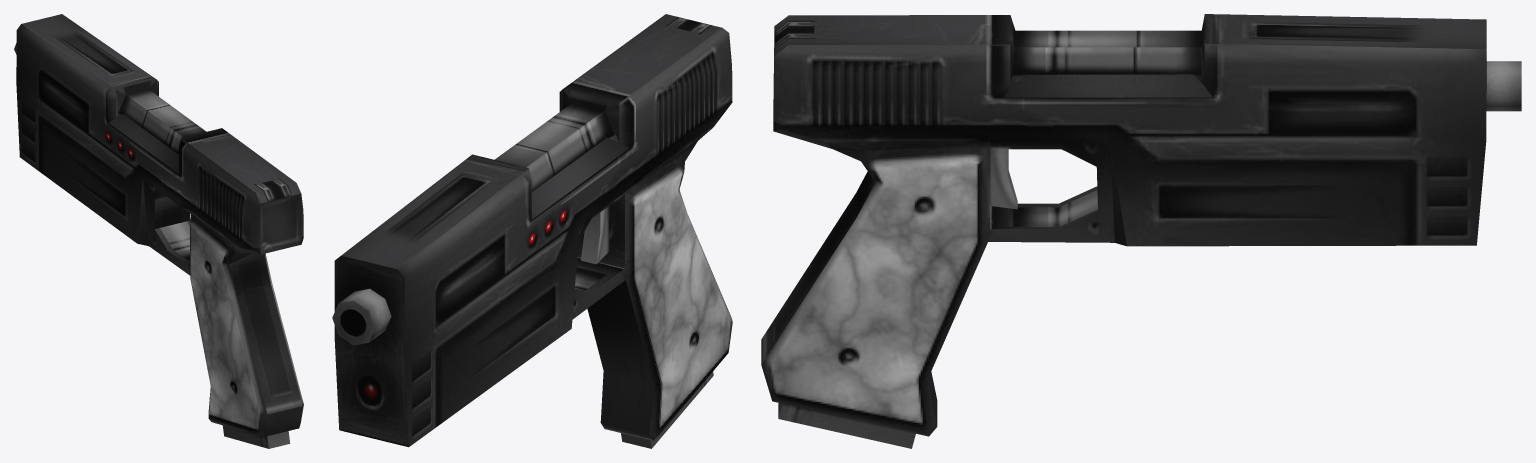
The model's file is pistol.FBX.
3 views of the same model, side by side, from view 1: azimuth 30°, elevation 25°; view 2: azimuth 150°, elevation 25°; view 3: azimuth 270°, elevation 25° (orthographic). The views are drawn at different scales.
Parts seen in each view (by area): view 1: main; view 2: main; view 3: main.
Part boxes in pixels (bbox=[...]): main: bbox=[14, 14, 303, 448]; main: bbox=[332, 14, 732, 448]; main: bbox=[761, 14, 1521, 448].
Bounding box in the file's own units: 1.07 × 5.6 × 9.35.
1 material, 1 textured.
